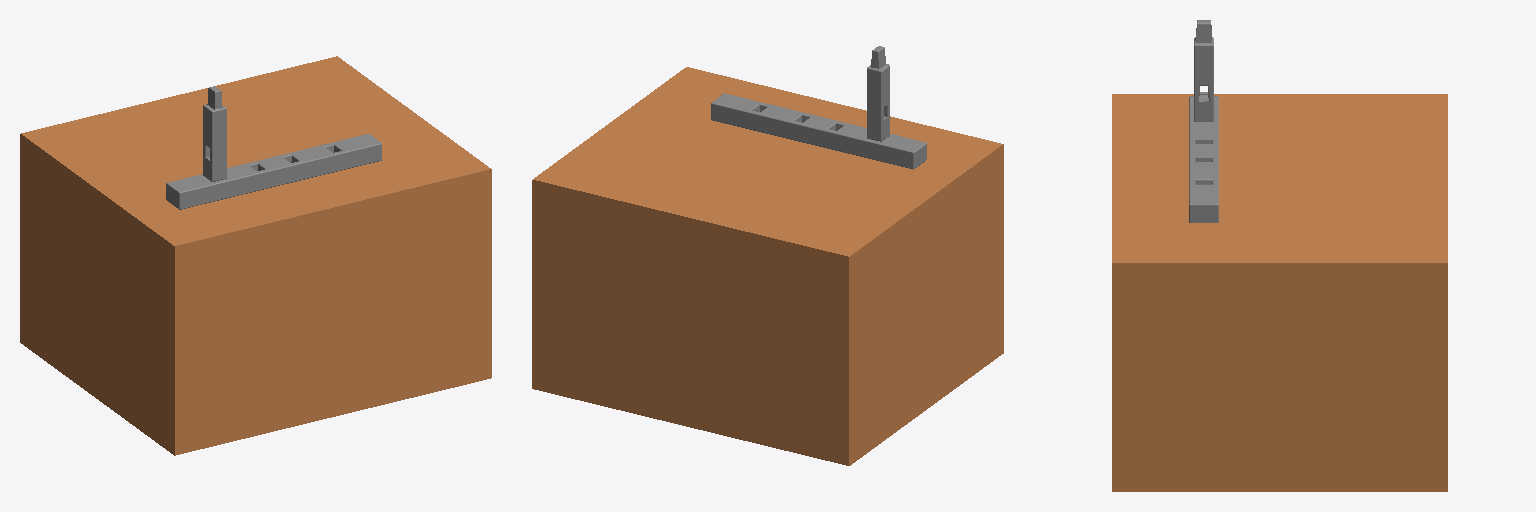
URDF robot description (table_beam_2x_0_scene_0025):
<?xml version="1.0"?>
<robot name="table_beam_2x_0_scene_0025">
  <link name="box">
    <visual>
      <material name="wood"><color rgba="0.82 0.56 0.35 1.0"/></material>
      <origin xyz="0 0 0"/>
      <geometry><box size="0.475 0.4 0.3"/></geometry>
    </visual>
    <collision>
      <origin xyz="0 0 0"/>
      <geometry><box size="0.475 0.4 0.3"/></geometry>
    </collision>
    <inertial>
      <mass value="500"/>
      <friction value="1.0"/>
      <inertia ixx="1000.0" ixy="0.0" ixz="0.0" iyy="1000.0" iyz="0.0" izz="1000.0"/>
    </inertial>
  </link>
  <link name="part_6_canonical">
    <visual>
      <origin xyz="0 0 0" rpy="0 0 0"/>
      <geometry><mesh filename="../../6/6_canonical.obj" scale="1 1 1"/></geometry>
      <material name="placed_0"><color rgba="0.6 0.6 0.6 1.0"/></material>
    </visual>
    <collision>
      <origin xyz="0 0 0" rpy="0 0 0"/>
      <geometry><mesh filename="../../6/6_canonical.obj" scale="1 1 1"/></geometry>
    </collision>
  </link>
  <joint name="part_6_canonical_joint" type="fixed">
    <parent link="box"/>
    <child link="part_6_canonical"/>
    <origin xyz="-0.024604 -0.090240 0.162666" rpy="0.000000 0.000000 0.000000"/>
  </joint>
  <link name="part_2_hull_0">
    <visual>
      <origin xyz="0 0 0" rpy="0 0 0"/>
      <geometry><mesh filename="../../2/coacd/decomp_0.obj" scale="1 1 1"/></geometry>
      <material name="placed_1"><color rgba="0.6 0.6 0.6 1.0"/></material>
    </visual>
    <collision>
      <origin xyz="0 0 0" rpy="0 0 0"/>
      <geometry><mesh filename="../../2/coacd/decomp_0.obj" scale="1 1 1"/></geometry>
    </collision>
  </link>
  <joint name="part_2_hull_0_joint" type="fixed">
    <parent link="box"/>
    <child link="part_2_hull_0"/>
    <origin xyz="-0.113531 -0.090240 0.225384" rpy="0.000000 -1.570796 0.000000"/>
  </joint>
  <link name="part_2_hull_1">
    <visual>
      <origin xyz="0 0 0" rpy="0 0 0"/>
      <geometry><mesh filename="../../2/coacd/decomp_1.obj" scale="1 1 1"/></geometry>
      <material name="placed_2"><color rgba="0.6 0.6 0.6 1.0"/></material>
    </visual>
    <collision>
      <origin xyz="0 0 0" rpy="0 0 0"/>
      <geometry><mesh filename="../../2/coacd/decomp_1.obj" scale="1 1 1"/></geometry>
    </collision>
  </link>
  <joint name="part_2_hull_1_joint" type="fixed">
    <parent link="box"/>
    <child link="part_2_hull_1"/>
    <origin xyz="-0.113531 -0.090240 0.225384" rpy="0.000000 -1.570796 0.000000"/>
  </joint>
  <link name="part_2_hull_2">
    <visual>
      <origin xyz="0 0 0" rpy="0 0 0"/>
      <geometry><mesh filename="../../2/coacd/decomp_10.obj" scale="1 1 1"/></geometry>
      <material name="placed_3"><color rgba="0.6 0.6 0.6 1.0"/></material>
    </visual>
    <collision>
      <origin xyz="0 0 0" rpy="0 0 0"/>
      <geometry><mesh filename="../../2/coacd/decomp_10.obj" scale="1 1 1"/></geometry>
    </collision>
  </link>
  <joint name="part_2_hull_2_joint" type="fixed">
    <parent link="box"/>
    <child link="part_2_hull_2"/>
    <origin xyz="-0.113531 -0.090240 0.225384" rpy="0.000000 -1.570796 0.000000"/>
  </joint>
  <link name="part_2_hull_3">
    <visual>
      <origin xyz="0 0 0" rpy="0 0 0"/>
      <geometry><mesh filename="../../2/coacd/decomp_11.obj" scale="1 1 1"/></geometry>
      <material name="placed_4"><color rgba="0.6 0.6 0.6 1.0"/></material>
    </visual>
    <collision>
      <origin xyz="0 0 0" rpy="0 0 0"/>
      <geometry><mesh filename="../../2/coacd/decomp_11.obj" scale="1 1 1"/></geometry>
    </collision>
  </link>
  <joint name="part_2_hull_3_joint" type="fixed">
    <parent link="box"/>
    <child link="part_2_hull_3"/>
    <origin xyz="-0.113531 -0.090240 0.225384" rpy="0.000000 -1.570796 0.000000"/>
  </joint>
  <link name="part_2_hull_4">
    <visual>
      <origin xyz="0 0 0" rpy="0 0 0"/>
      <geometry><mesh filename="../../2/coacd/decomp_12.obj" scale="1 1 1"/></geometry>
      <material name="placed_5"><color rgba="0.6 0.6 0.6 1.0"/></material>
    </visual>
    <collision>
      <origin xyz="0 0 0" rpy="0 0 0"/>
      <geometry><mesh filename="../../2/coacd/decomp_12.obj" scale="1 1 1"/></geometry>
    </collision>
  </link>
  <joint name="part_2_hull_4_joint" type="fixed">
    <parent link="box"/>
    <child link="part_2_hull_4"/>
    <origin xyz="-0.113531 -0.090240 0.225384" rpy="0.000000 -1.570796 0.000000"/>
  </joint>
  <link name="part_2_hull_5">
    <visual>
      <origin xyz="0 0 0" rpy="0 0 0"/>
      <geometry><mesh filename="../../2/coacd/decomp_13.obj" scale="1 1 1"/></geometry>
      <material name="placed_6"><color rgba="0.6 0.6 0.6 1.0"/></material>
    </visual>
    <collision>
      <origin xyz="0 0 0" rpy="0 0 0"/>
      <geometry><mesh filename="../../2/coacd/decomp_13.obj" scale="1 1 1"/></geometry>
    </collision>
  </link>
  <joint name="part_2_hull_5_joint" type="fixed">
    <parent link="box"/>
    <child link="part_2_hull_5"/>
    <origin xyz="-0.113531 -0.090240 0.225384" rpy="0.000000 -1.570796 0.000000"/>
  </joint>
  <link name="part_2_hull_6">
    <visual>
      <origin xyz="0 0 0" rpy="0 0 0"/>
      <geometry><mesh filename="../../2/coacd/decomp_14.obj" scale="1 1 1"/></geometry>
      <material name="placed_7"><color rgba="0.6 0.6 0.6 1.0"/></material>
    </visual>
    <collision>
      <origin xyz="0 0 0" rpy="0 0 0"/>
      <geometry><mesh filename="../../2/coacd/decomp_14.obj" scale="1 1 1"/></geometry>
    </collision>
  </link>
  <joint name="part_2_hull_6_joint" type="fixed">
    <parent link="box"/>
    <child link="part_2_hull_6"/>
    <origin xyz="-0.113531 -0.090240 0.225384" rpy="0.000000 -1.570796 0.000000"/>
  </joint>
  <link name="part_2_hull_7">
    <visual>
      <origin xyz="0 0 0" rpy="0 0 0"/>
      <geometry><mesh filename="../../2/coacd/decomp_15.obj" scale="1 1 1"/></geometry>
      <material name="placed_8"><color rgba="0.6 0.6 0.6 1.0"/></material>
    </visual>
    <collision>
      <origin xyz="0 0 0" rpy="0 0 0"/>
      <geometry><mesh filename="../../2/coacd/decomp_15.obj" scale="1 1 1"/></geometry>
    </collision>
  </link>
  <joint name="part_2_hull_7_joint" type="fixed">
    <parent link="box"/>
    <child link="part_2_hull_7"/>
    <origin xyz="-0.113531 -0.090240 0.225384" rpy="0.000000 -1.570796 0.000000"/>
  </joint>
  <link name="part_2_hull_8">
    <visual>
      <origin xyz="0 0 0" rpy="0 0 0"/>
      <geometry><mesh filename="../../2/coacd/decomp_2.obj" scale="1 1 1"/></geometry>
      <material name="placed_9"><color rgba="0.6 0.6 0.6 1.0"/></material>
    </visual>
    <collision>
      <origin xyz="0 0 0" rpy="0 0 0"/>
      <geometry><mesh filename="../../2/coacd/decomp_2.obj" scale="1 1 1"/></geometry>
    </collision>
  </link>
  <joint name="part_2_hull_8_joint" type="fixed">
    <parent link="box"/>
    <child link="part_2_hull_8"/>
    <origin xyz="-0.113531 -0.090240 0.225384" rpy="0.000000 -1.570796 0.000000"/>
  </joint>
  <link name="part_2_hull_9">
    <visual>
      <origin xyz="0 0 0" rpy="0 0 0"/>
      <geometry><mesh filename="../../2/coacd/decomp_3.obj" scale="1 1 1"/></geometry>
      <material name="placed_10"><color rgba="0.6 0.6 0.6 1.0"/></material>
    </visual>
    <collision>
      <origin xyz="0 0 0" rpy="0 0 0"/>
      <geometry><mesh filename="../../2/coacd/decomp_3.obj" scale="1 1 1"/></geometry>
    </collision>
  </link>
  <joint name="part_2_hull_9_joint" type="fixed">
    <parent link="box"/>
    <child link="part_2_hull_9"/>
    <origin xyz="-0.113531 -0.090240 0.225384" rpy="0.000000 -1.570796 0.000000"/>
  </joint>
  <link name="part_2_hull_10">
    <visual>
      <origin xyz="0 0 0" rpy="0 0 0"/>
      <geometry><mesh filename="../../2/coacd/decomp_4.obj" scale="1 1 1"/></geometry>
      <material name="placed_11"><color rgba="0.6 0.6 0.6 1.0"/></material>
    </visual>
    <collision>
      <origin xyz="0 0 0" rpy="0 0 0"/>
      <geometry><mesh filename="../../2/coacd/decomp_4.obj" scale="1 1 1"/></geometry>
    </collision>
  </link>
  <joint name="part_2_hull_10_joint" type="fixed">
    <parent link="box"/>
    <child link="part_2_hull_10"/>
    <origin xyz="-0.113531 -0.090240 0.225384" rpy="0.000000 -1.570796 0.000000"/>
  </joint>
  <link name="part_2_hull_11">
    <visual>
      <origin xyz="0 0 0" rpy="0 0 0"/>
      <geometry><mesh filename="../../2/coacd/decomp_5.obj" scale="1 1 1"/></geometry>
      <material name="placed_12"><color rgba="0.6 0.6 0.6 1.0"/></material>
    </visual>
    <collision>
      <origin xyz="0 0 0" rpy="0 0 0"/>
      <geometry><mesh filename="../../2/coacd/decomp_5.obj" scale="1 1 1"/></geometry>
    </collision>
  </link>
  <joint name="part_2_hull_11_joint" type="fixed">
    <parent link="box"/>
    <child link="part_2_hull_11"/>
    <origin xyz="-0.113531 -0.090240 0.225384" rpy="0.000000 -1.570796 0.000000"/>
  </joint>
  <link name="part_2_hull_12">
    <visual>
      <origin xyz="0 0 0" rpy="0 0 0"/>
      <geometry><mesh filename="../../2/coacd/decomp_6.obj" scale="1 1 1"/></geometry>
      <material name="placed_13"><color rgba="0.6 0.6 0.6 1.0"/></material>
    </visual>
    <collision>
      <origin xyz="0 0 0" rpy="0 0 0"/>
      <geometry><mesh filename="../../2/coacd/decomp_6.obj" scale="1 1 1"/></geometry>
    </collision>
  </link>
  <joint name="part_2_hull_12_joint" type="fixed">
    <parent link="box"/>
    <child link="part_2_hull_12"/>
    <origin xyz="-0.113531 -0.090240 0.225384" rpy="0.000000 -1.570796 0.000000"/>
  </joint>
  <link name="part_2_hull_13">
    <visual>
      <origin xyz="0 0 0" rpy="0 0 0"/>
      <geometry><mesh filename="../../2/coacd/decomp_7.obj" scale="1 1 1"/></geometry>
      <material name="placed_14"><color rgba="0.6 0.6 0.6 1.0"/></material>
    </visual>
    <collision>
      <origin xyz="0 0 0" rpy="0 0 0"/>
      <geometry><mesh filename="../../2/coacd/decomp_7.obj" scale="1 1 1"/></geometry>
    </collision>
  </link>
  <joint name="part_2_hull_13_joint" type="fixed">
    <parent link="box"/>
    <child link="part_2_hull_13"/>
    <origin xyz="-0.113531 -0.090240 0.225384" rpy="0.000000 -1.570796 0.000000"/>
  </joint>
  <link name="part_2_hull_14">
    <visual>
      <origin xyz="0 0 0" rpy="0 0 0"/>
      <geometry><mesh filename="../../2/coacd/decomp_8.obj" scale="1 1 1"/></geometry>
      <material name="placed_15"><color rgba="0.6 0.6 0.6 1.0"/></material>
    </visual>
    <collision>
      <origin xyz="0 0 0" rpy="0 0 0"/>
      <geometry><mesh filename="../../2/coacd/decomp_8.obj" scale="1 1 1"/></geometry>
    </collision>
  </link>
  <joint name="part_2_hull_14_joint" type="fixed">
    <parent link="box"/>
    <child link="part_2_hull_14"/>
    <origin xyz="-0.113531 -0.090240 0.225384" rpy="0.000000 -1.570796 0.000000"/>
  </joint>
  <link name="part_2_hull_15">
    <visual>
      <origin xyz="0 0 0" rpy="0 0 0"/>
      <geometry><mesh filename="../../2/coacd/decomp_9.obj" scale="1 1 1"/></geometry>
      <material name="placed_16"><color rgba="0.6 0.6 0.6 1.0"/></material>
    </visual>
    <collision>
      <origin xyz="0 0 0" rpy="0 0 0"/>
      <geometry><mesh filename="../../2/coacd/decomp_9.obj" scale="1 1 1"/></geometry>
    </collision>
  </link>
  <joint name="part_2_hull_15_joint" type="fixed">
    <parent link="box"/>
    <child link="part_2_hull_15"/>
    <origin xyz="-0.113531 -0.090240 0.225384" rpy="0.000000 -1.570796 0.000000"/>
  </joint>
</robot>

--- Facts derived from the render (not from the file) ---
3 views of the same robot in one strip: view 1: azimuth 30°, elevation 25°; view 2: azimuth 150°, elevation 25°; view 3: azimuth 270°, elevation 25° (orthographic).
Robot: table_beam_2x_0_scene_0025 — 18 links, 17 joints (17 fixed); root link box; default pose: every joint at zero.
Visible links, largest first — view 1: box, part_6_canonical, part_2_hull_1; view 2: box, part_6_canonical; view 3: box, part_6_canonical.
Boxes of the visible links, left/top/right/bottom form: box: left=20, top=56, right=491, bottom=455; part_6_canonical: left=166, top=134, right=381, bottom=209; part_2_hull_1: left=203, top=104, right=215, bottom=149; box: left=532, top=67, right=1003, bottom=465; part_6_canonical: left=711, top=93, right=926, bottom=169; box: left=1112, top=94, right=1447, bottom=491; part_6_canonical: left=1189, top=96, right=1218, bottom=222.
Bounding box of the posed robot: 0.475 × 0.4 × 0.4524 m (x, y, z).
17 mesh visuals loaded from 17 distinct referenced files (17 OBJ).
